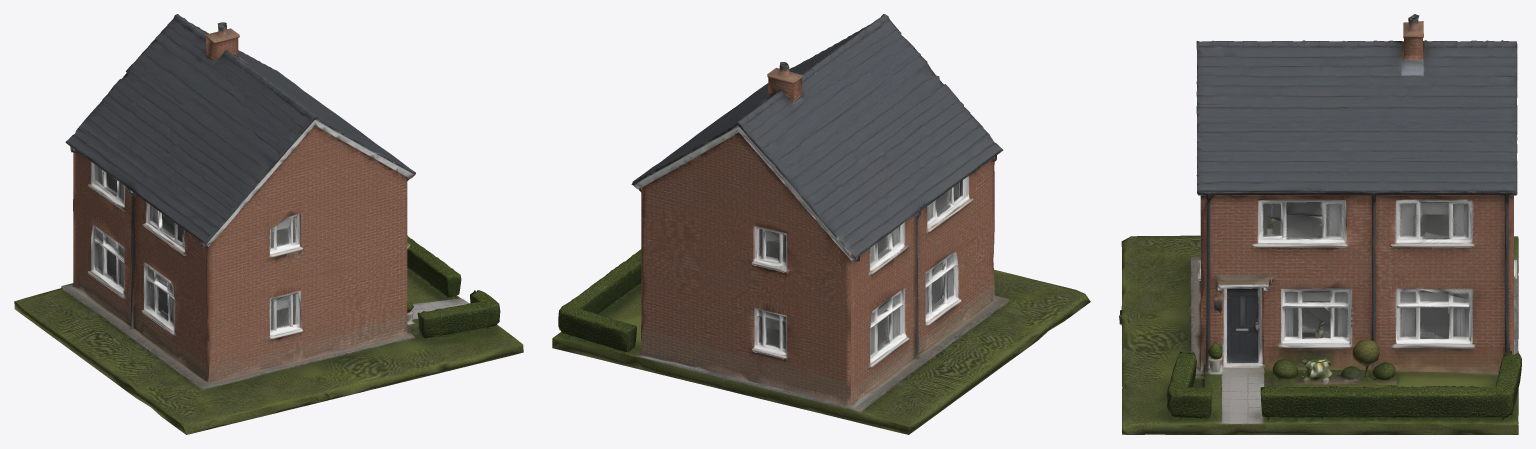
The model's file is bld-001.glb.
The picture shows the model from 3 angles, left to right: view 1: azimuth 30°, elevation 25°; view 2: azimuth 150°, elevation 25°; view 3: azimuth 270°, elevation 25°; orthographic projection. The views are drawn at different scales.
Visible parts, largest first — view 1: tripo_node_fc4cdf41-b72d-4b83-a7da-df3b50c659da; view 2: tripo_node_fc4cdf41-b72d-4b83-a7da-df3b50c659da; view 3: tripo_node_fc4cdf41-b72d-4b83-a7da-df3b50c659da.
Part boxes in pixels (bbox=[...]): tripo_node_fc4cdf41-b72d-4b83-a7da-df3b50c659da: bbox=[14, 14, 523, 434]; tripo_node_fc4cdf41-b72d-4b83-a7da-df3b50c659da: bbox=[552, 14, 1090, 434]; tripo_node_fc4cdf41-b72d-4b83-a7da-df3b50c659da: bbox=[1119, 14, 1521, 434].
Bounding box in the file's own units: 1 × 0.7899 × 0.8973.
Materials: 1 (1 with a texture image).
